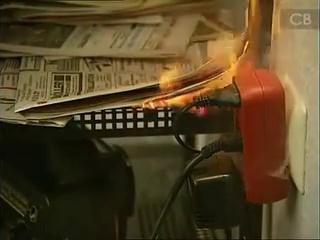Fire: (155, 9, 263, 111)
